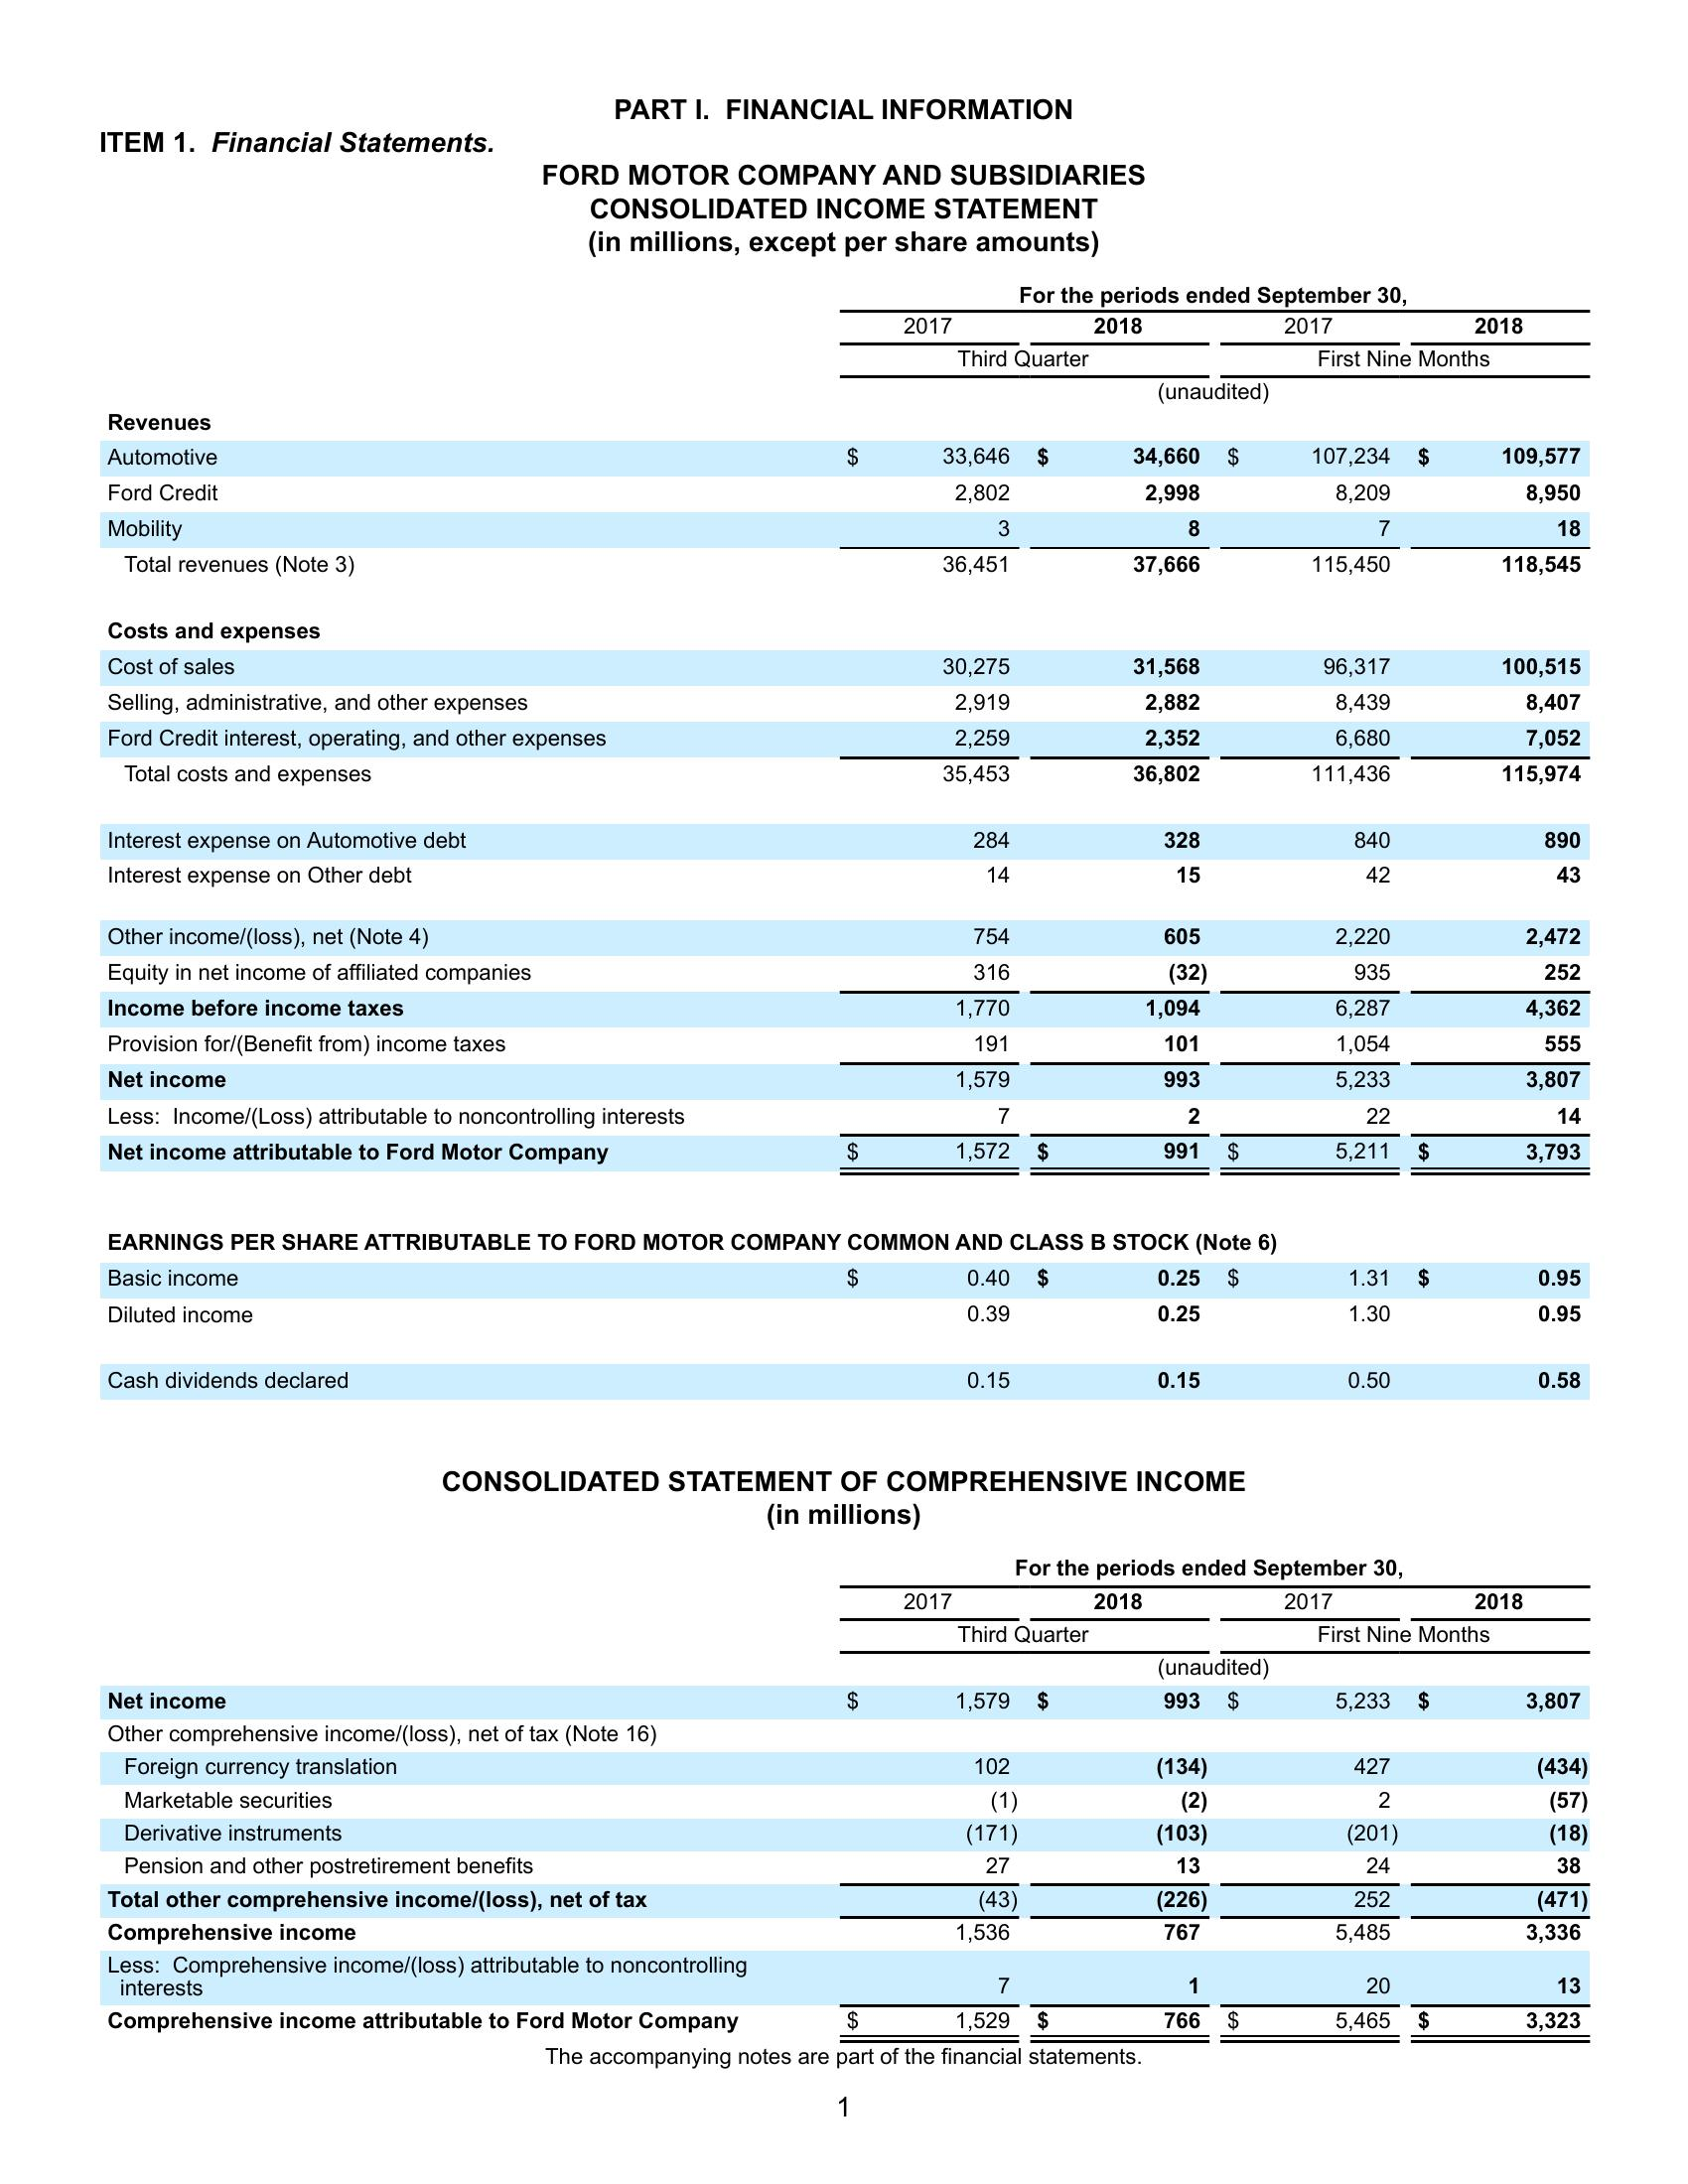table: (92, 280, 1601, 1181), (96, 1551, 1601, 2053), (94, 1213, 1590, 1409)
